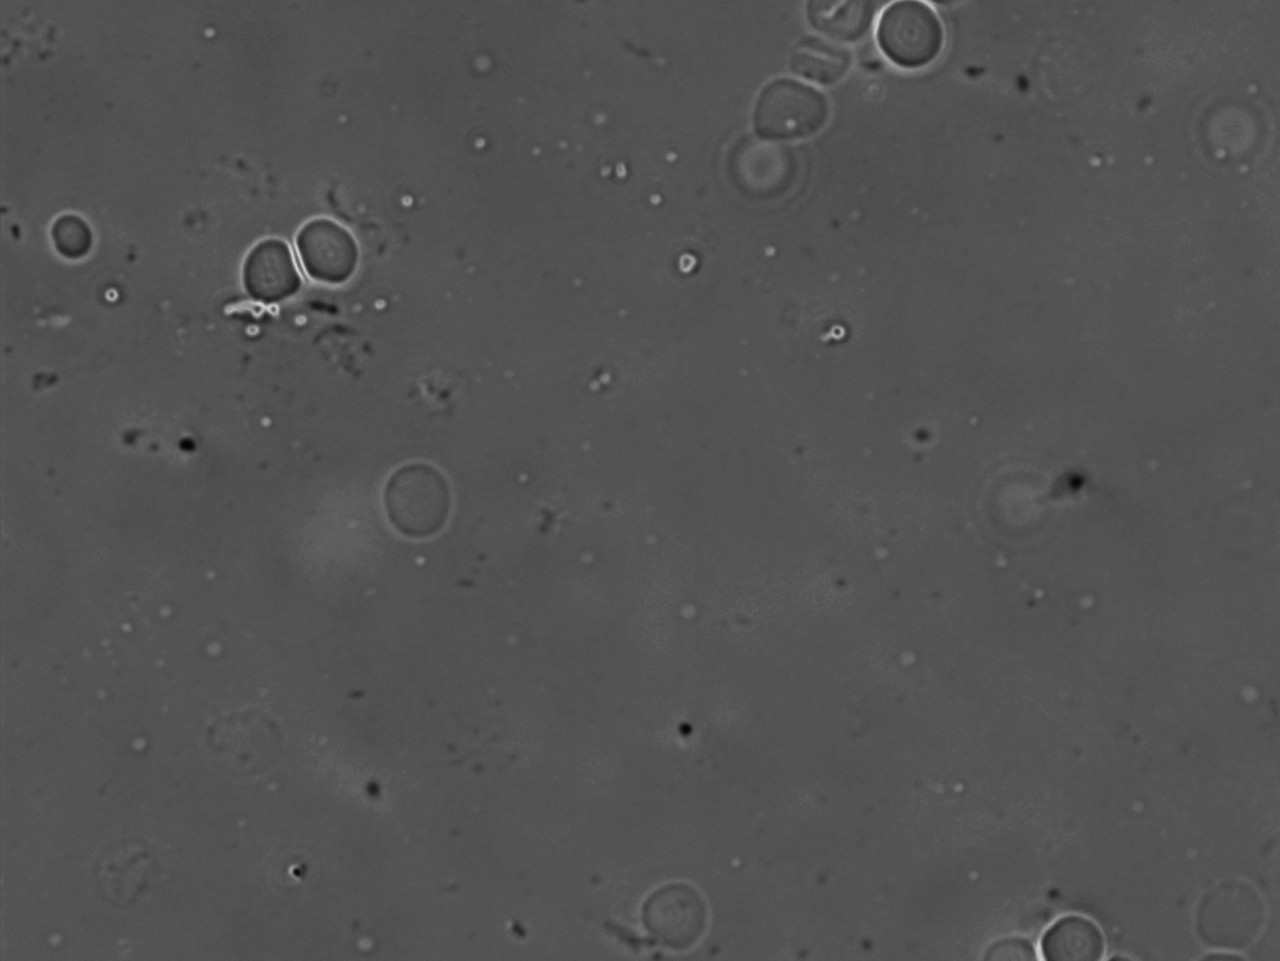depth:0: (230, 218, 308, 315), (283, 206, 372, 289), (1030, 902, 1128, 961)
